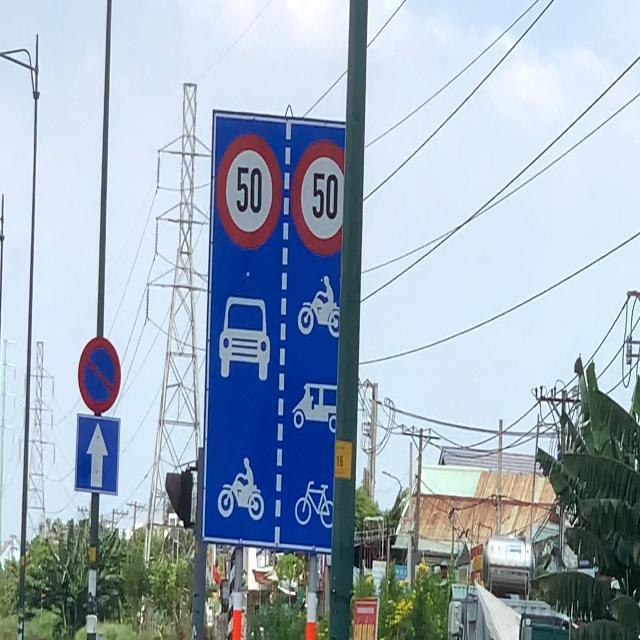127-toc-do-toi-da-50: (216, 132, 286, 250), (291, 140, 357, 256)
131a-cam-do-xe: (76, 334, 122, 414)
